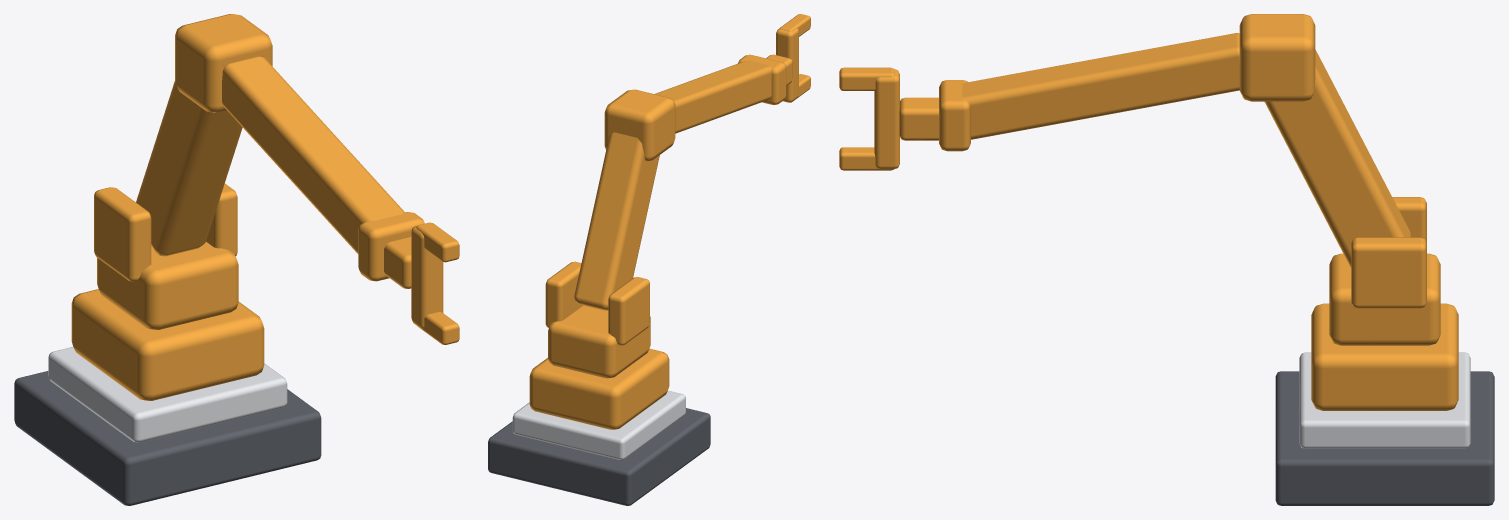
The model's file is six-axis-welding-robot.glb.
3 renders of one model, left to right at view 1: azimuth 30°, elevation 25°; view 2: azimuth 150°, elevation 25°; view 3: azimuth 270°, elevation 25°, orthographic. The views are drawn at different scales.
Visible parts, largest first — view 1: arm-swing, six-axis-welding-robot, base-spin; view 2: arm-swing, base-spin, six-axis-welding-robot; view 3: arm-swing, six-axis-welding-robot, base-spin.
Part boxes in pixels (x1,y1,x2,y2): arm-swing: (136, 14, 459, 344); six-axis-welding-robot: (14, 347, 321, 505); base-spin: (71, 183, 264, 400); arm-swing: (574, 14, 810, 310); base-spin: (529, 261, 669, 429); six-axis-welding-robot: (488, 390, 710, 505); arm-swing: (839, 14, 1410, 268); six-axis-welding-robot: (1275, 352, 1494, 505); base-spin: (1311, 197, 1458, 410).
Size of the model in its own units: 1.1 by 2.42 by 3.29.
